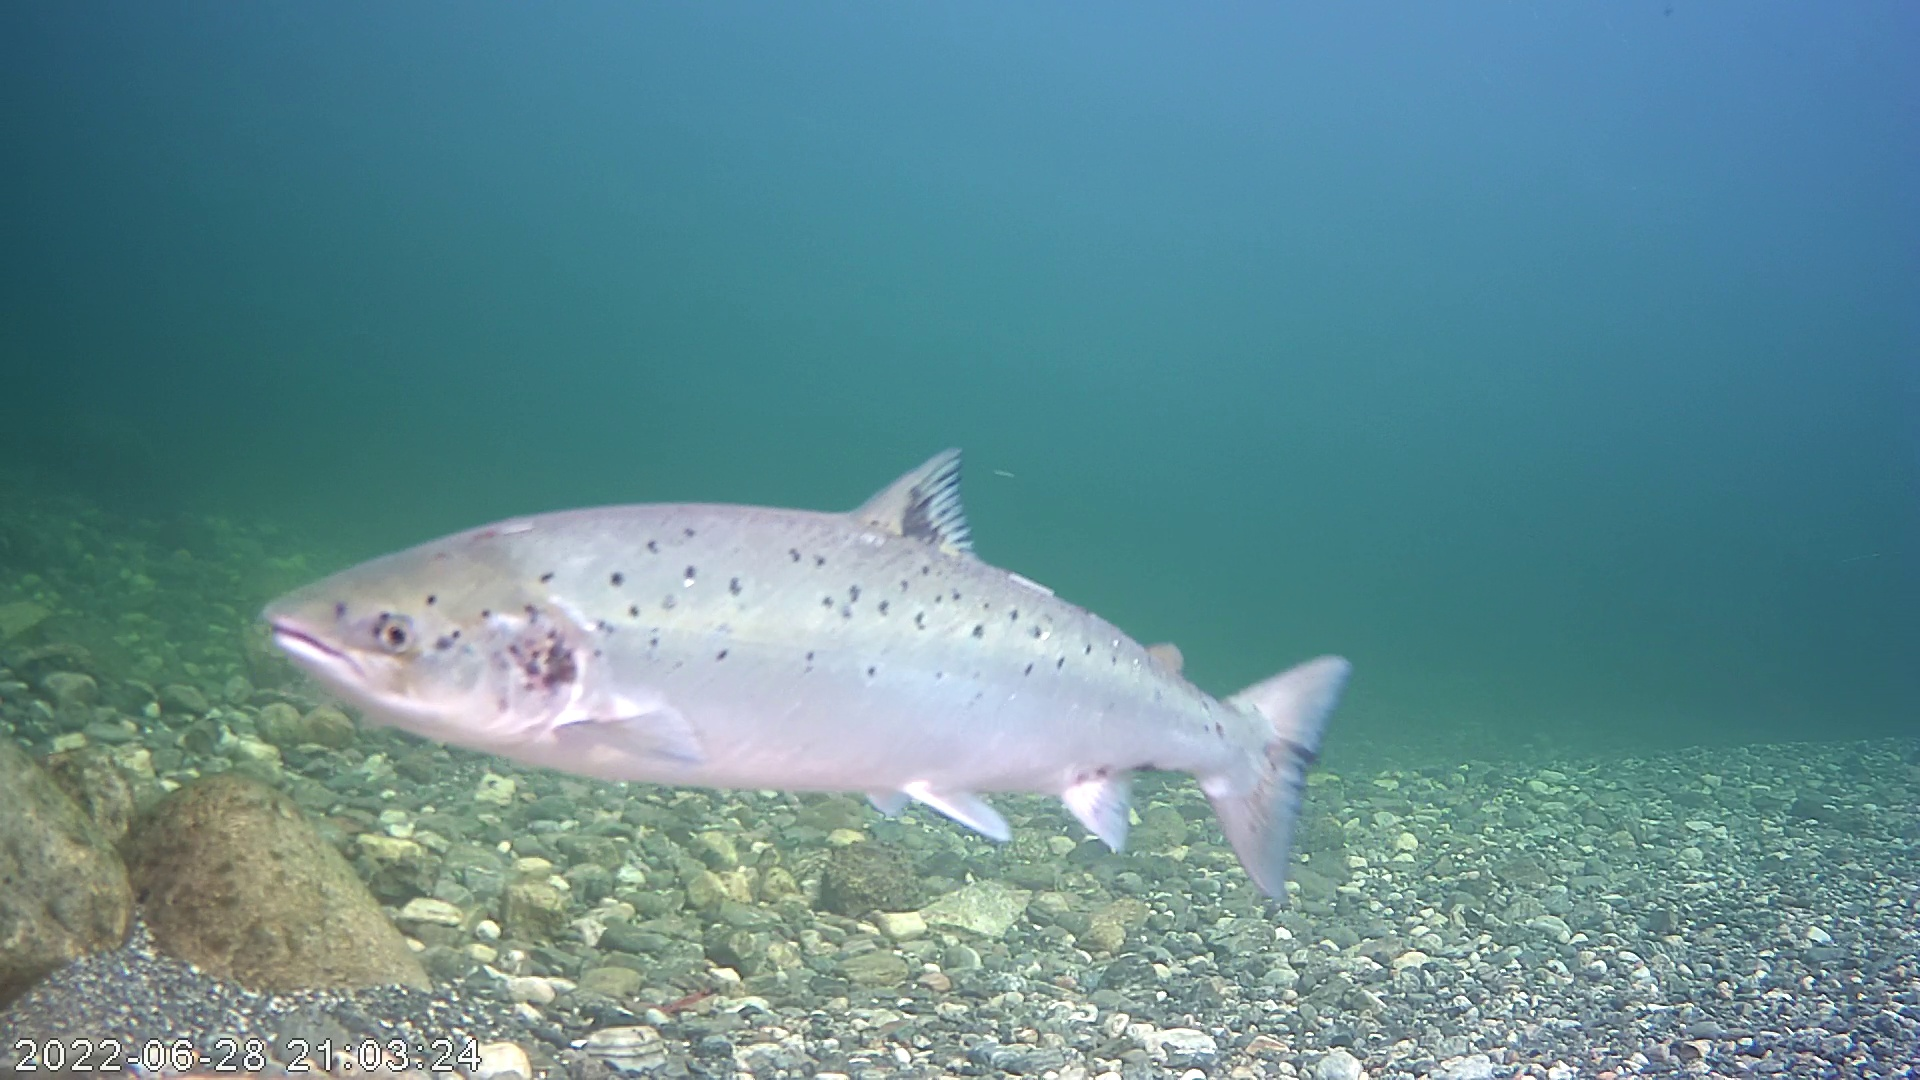salmon: (247, 369, 1364, 916)
